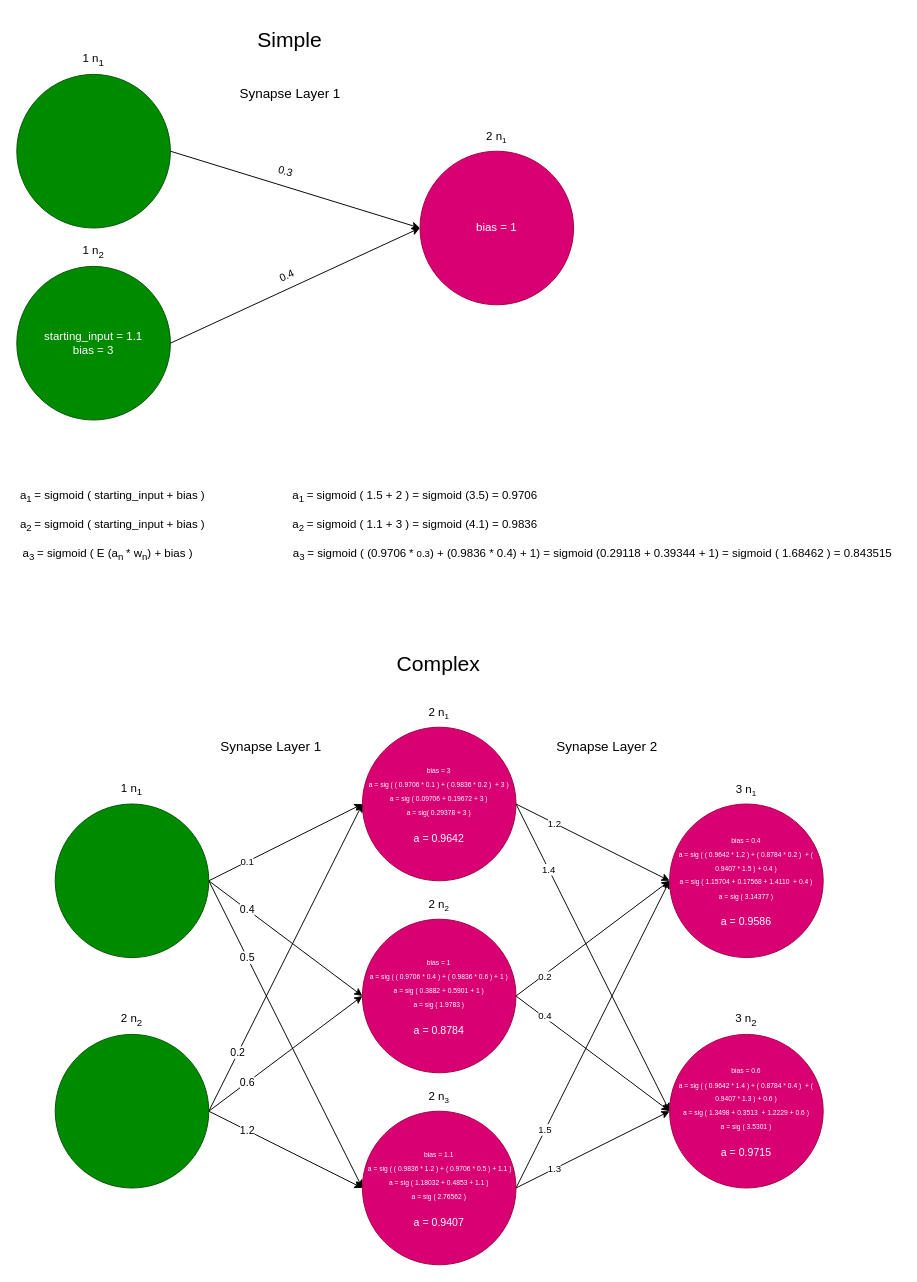
This 917x1282 diagram has some shape labels left out. The centre of each missing label's shape, as x and y in pixels:
"starting_input = 1.1 bias = 3 sigmoid ( 4.1 ) a = 0.9836" goes at (x=131, y=1110).
"starting_input = 1.5 bias = 2" goes at (x=93, y=150).
"starting_input = 1.5 bias = 2 sigmoid( 3.5 ) a = 0.9706" goes at (x=131, y=880).
